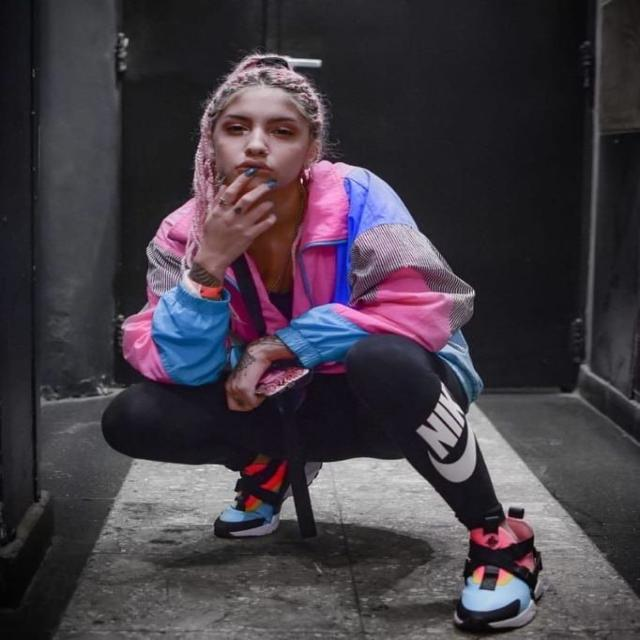nike: (400, 373, 490, 490)
